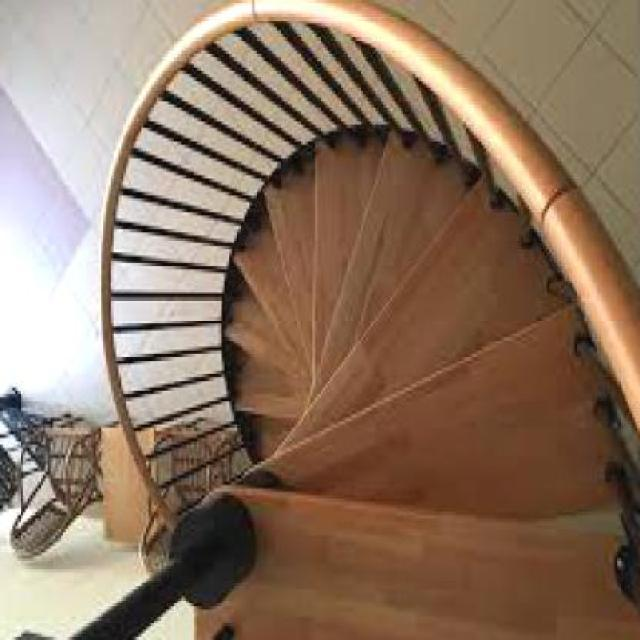stair: (48, 0, 637, 637)
